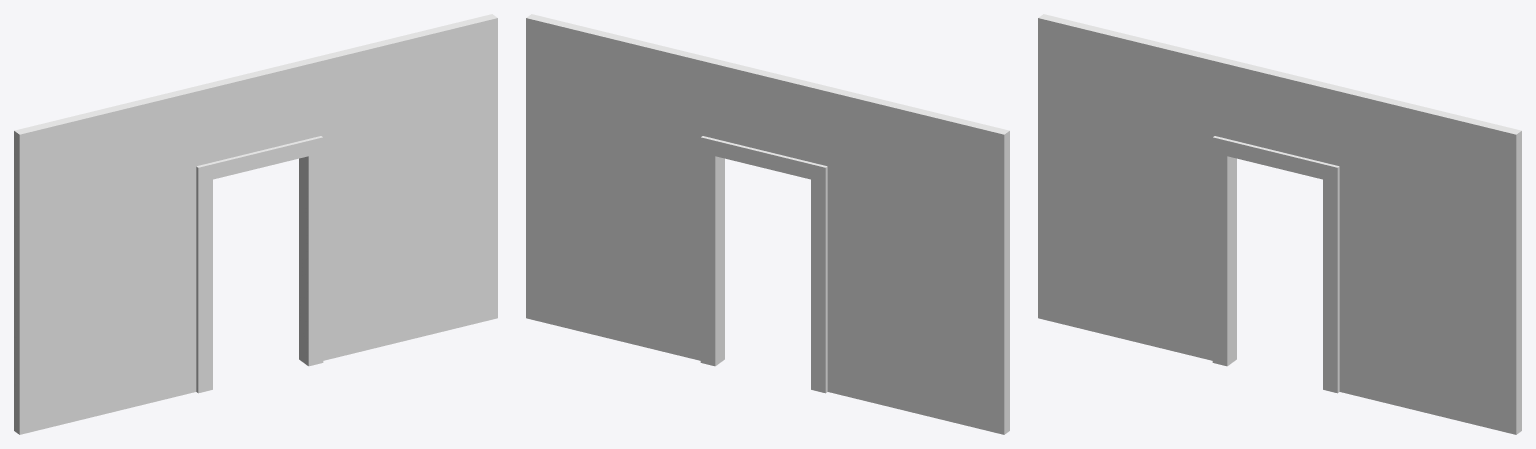
The model's file is SM_Buildings_WallDoor_5x3_01.glb.
The picture shows the model from 3 angles, left to right: view 1: azimuth 30°, elevation 25°; view 2: azimuth 150°, elevation 25°; view 3: azimuth 330°, elevation 25°; orthographic projection.
Parts seen in each view (by area): view 1: SM_Buildings_WallDoor_5x3_01; view 2: SM_Buildings_WallDoor_5x3_01; view 3: SM_Buildings_WallDoor_5x3_01.
Boxes of the visible parts, x1,y1,x2,y2 form: SM_Buildings_WallDoor_5x3_01: [14, 14, 497, 434]; SM_Buildings_WallDoor_5x3_01: [526, 14, 1009, 434]; SM_Buildings_WallDoor_5x3_01: [1038, 14, 1521, 434].
Size of the model in its own units: 5 by 3 by 0.1729.
Materials: 1 (1 with a texture image).
